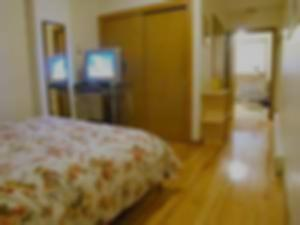Armario: (104, 17, 192, 138)
